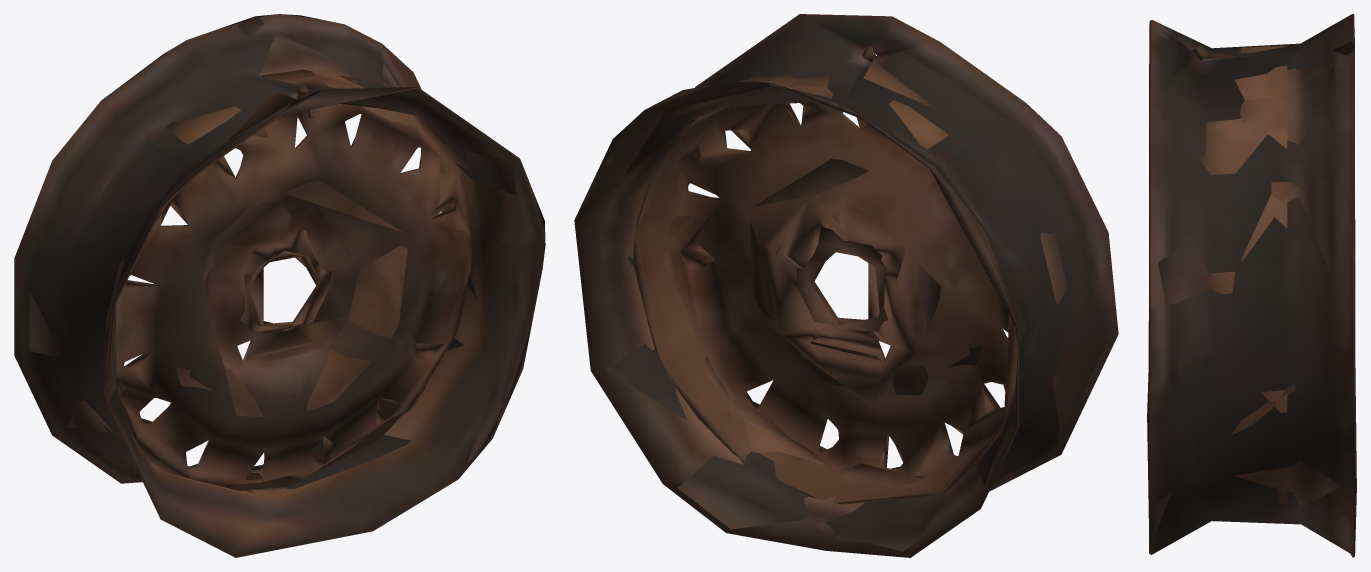
Rendered from wheel.glb.
3 views of the same model, side by side, from view 1: azimuth 30°, elevation 25°; view 2: azimuth 150°, elevation 25°; view 3: azimuth 270°, elevation 25° (orthographic). The views are drawn at different scales.
Visible parts, largest first — view 1: rusted_wheel_rim_01; view 2: rusted_wheel_rim_01; view 3: rusted_wheel_rim_01.
Boxes of the visible parts, x1,y1,x2,y2 form: rusted_wheel_rim_01: (14, 14, 545, 557); rusted_wheel_rim_01: (574, 14, 1118, 557); rusted_wheel_rim_01: (1147, 14, 1356, 557).
Size of the model in its own units: 0.3983 by 0.3936 by 0.1529.
Materials: 1 (1 with a texture image).
